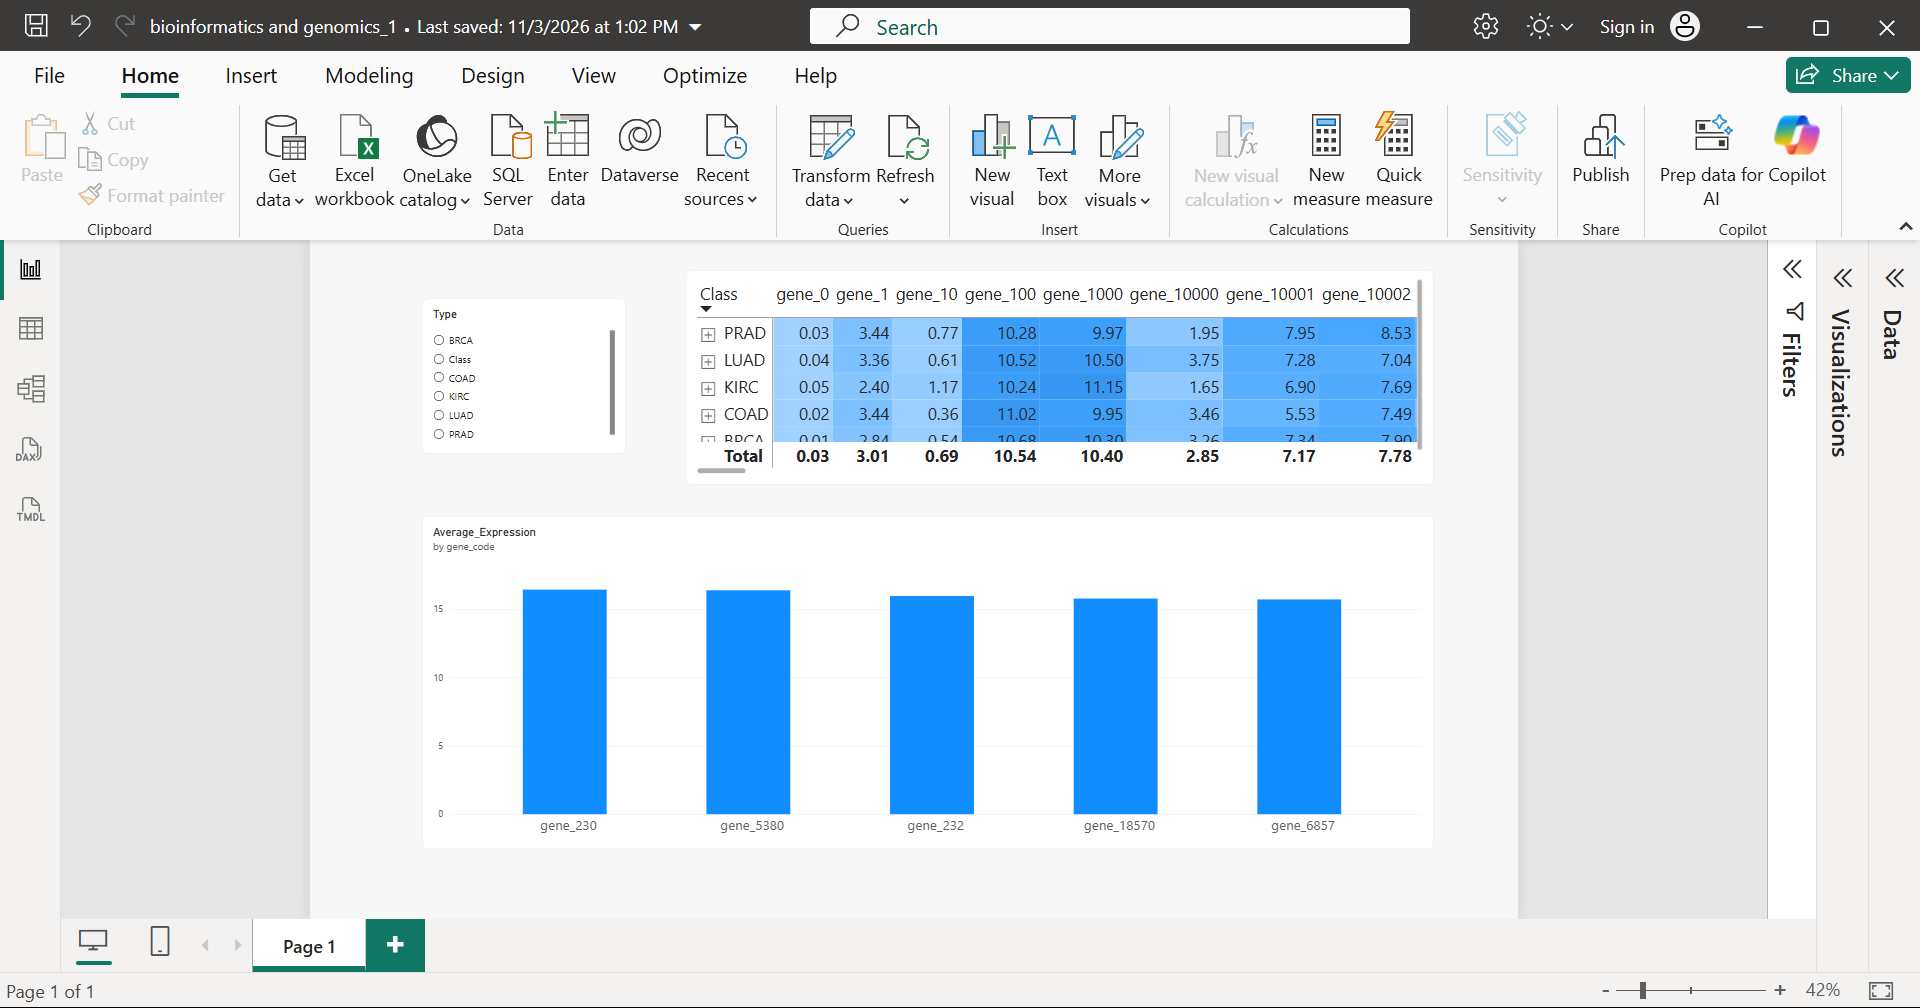

The dashboard page shown, as its layout file describes it:
{"tool":"powerbi","page":{"name":"Page 1","canvas":[1920,1080],"ordinal":0},"visuals":[{"type":"pivotTable","fields":{"Columns":["cancer_rna_seq.gene_code"],"Rows":["cancer_rna_seq.labels.Type","cancer_rna_seq.sample_id"],"Values":["cancer_rna_seq.Average_Expression"]},"box":[600,46.7,1188.2,341.2],"z":1000},{"type":"clusteredColumnChart","fields":{"Category":["cancer_rna_seq.gene_code"],"Y":["cancer_rna_seq.Average_Expression"]},"box":[180,440,1608.1,529.7],"z":1001},{"type":"listSlicer","fields":{"Values":["labels.Type"]},"box":[180,93.3,323.3,246.7],"z":1002}]}

Visuals, with their boxes on the page's 1920x1080 design canvas (x1, y1, x2, y2). These are canvas units, not pixel positions in the 1920x1008 screenshot, which may show the page scaled, cropped or inside an application window:
pivotTable - cancer_rna_seq.gene_code x cancer_rna_seq.labels.Type: 600:47:1788:388
clusteredColumnChart - cancer_rna_seq.gene_code x cancer_rna_seq.Average_Expression: 180:440:1788:970
listSlicer - labels.Type: 180:93:503:340
